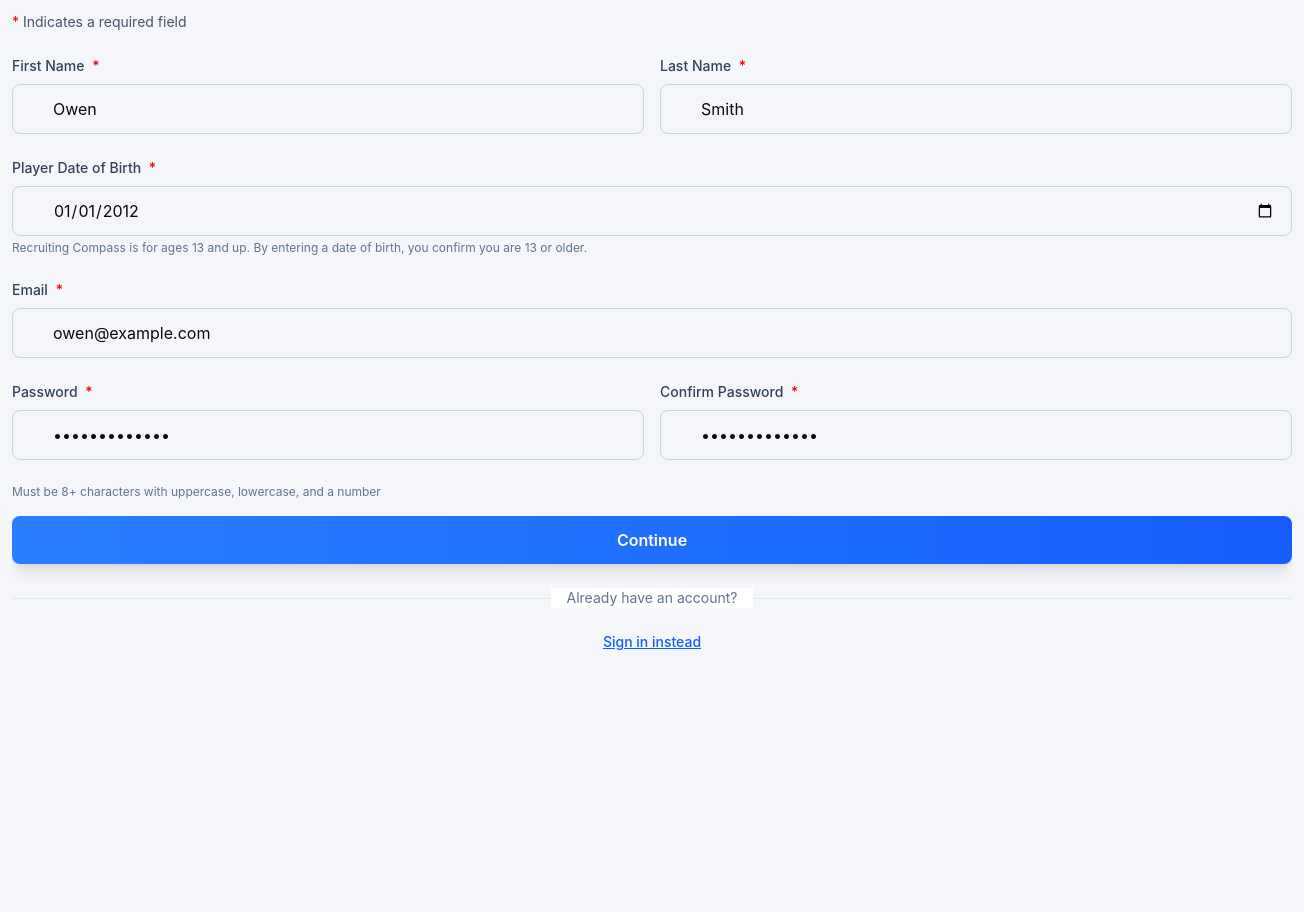
Test: SignupForm wizard steps (13-17 player) › advances to the guardian step after Continue, once account-step fields are valid
Click the button with test id "signup-step-continue".
click(652, 540)  # box top-left (12, 516), bottom-right (1292, 564)
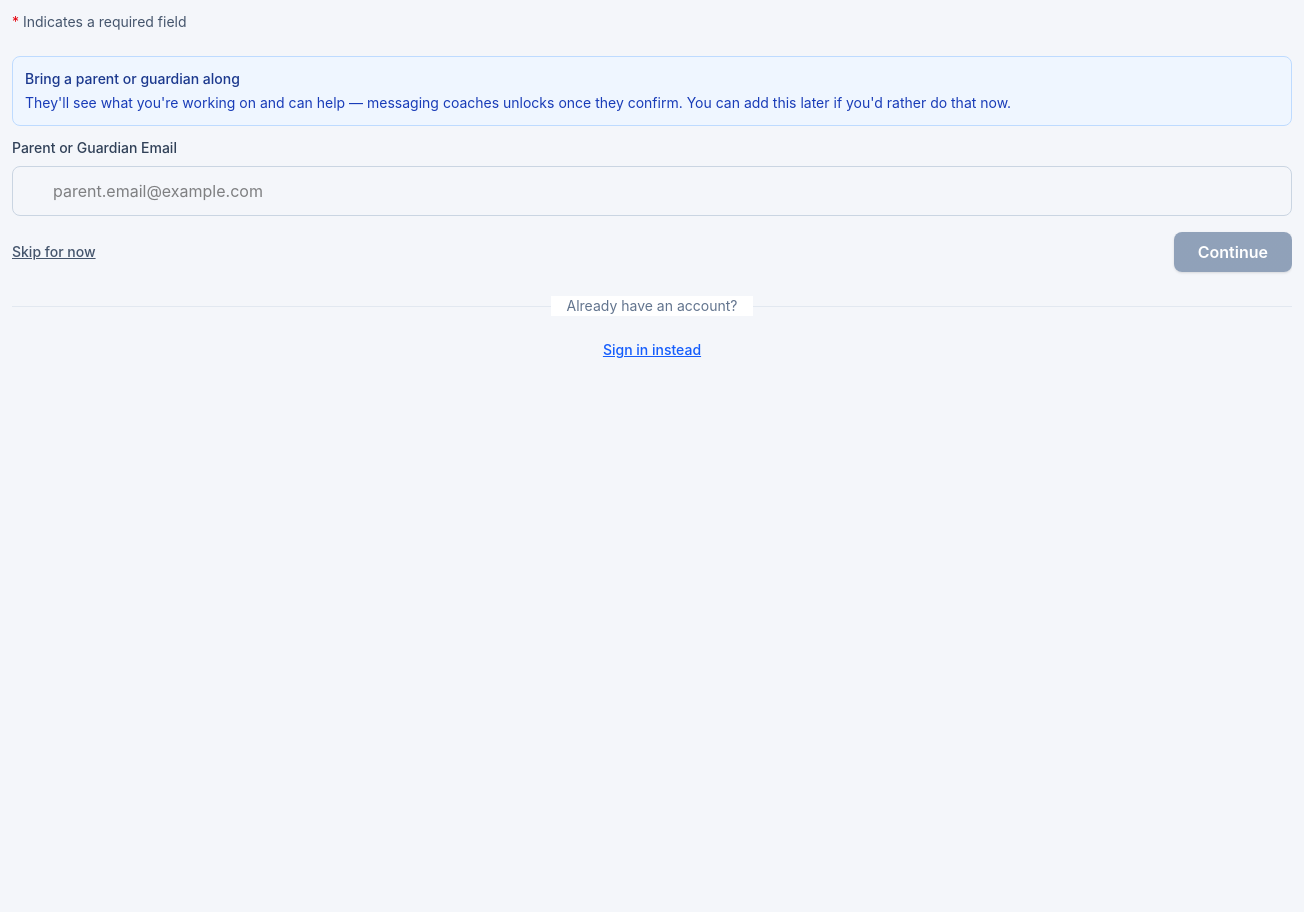
Now the field with id "guardianEmail" is shown, box top-left (12, 166), bottom-right (1292, 216)
